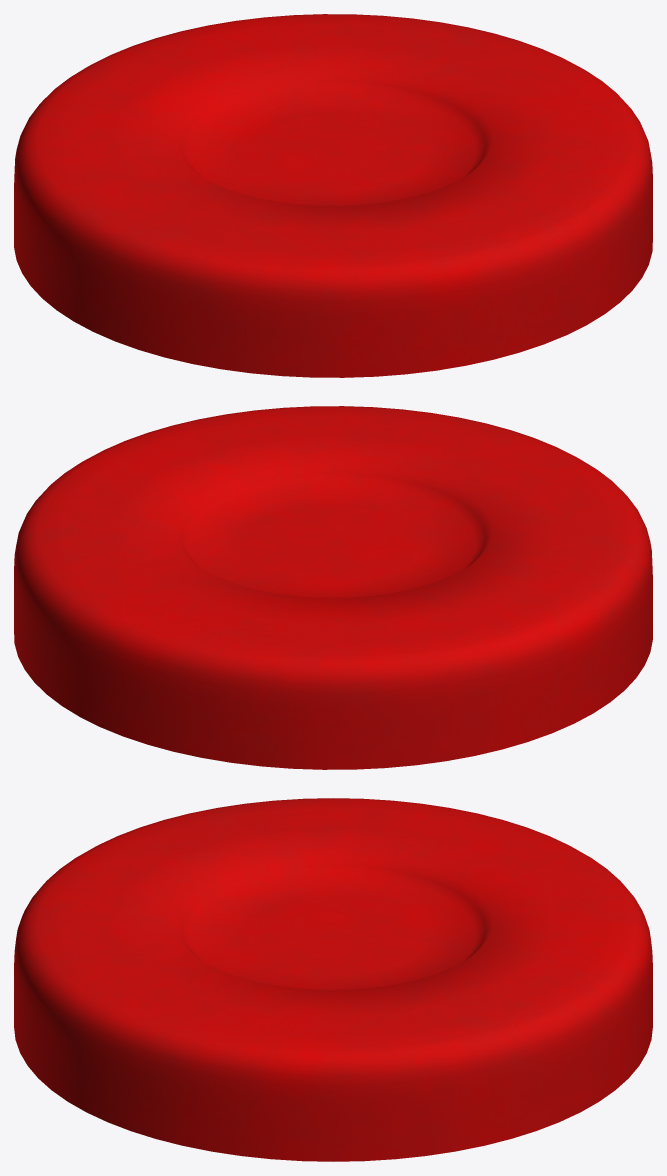
The model's file is button_top.dae.
The picture shows the model from 3 angles, top to bottom: view 1: azimuth 30°, elevation 25°; view 2: azimuth 150°, elevation 25°; view 3: azimuth 270°, elevation 25°; orthographic projection.
Parts seen in each view (by area): view 1: button; view 2: button; view 3: button.
Part boxes in pixels (x1,y1,x2,y2): button: (14, 14, 652, 377); button: (14, 406, 652, 769); button: (14, 798, 652, 1161).
Bounding box in the file's own units: 1.19 × 1.19 × 0.2149.
1 material, 1 textured.
